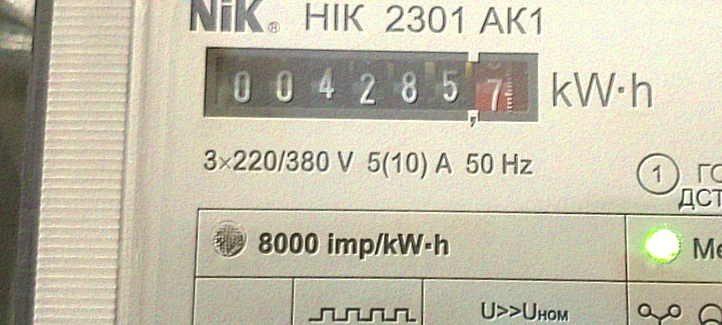0: (273, 66, 296, 104), (231, 67, 253, 103)
2: (357, 70, 377, 106)
4: (317, 64, 336, 100)
5: (438, 66, 460, 103)
7: (483, 75, 503, 112)
8: (397, 68, 420, 105)
screen: (187, 29, 556, 142)
